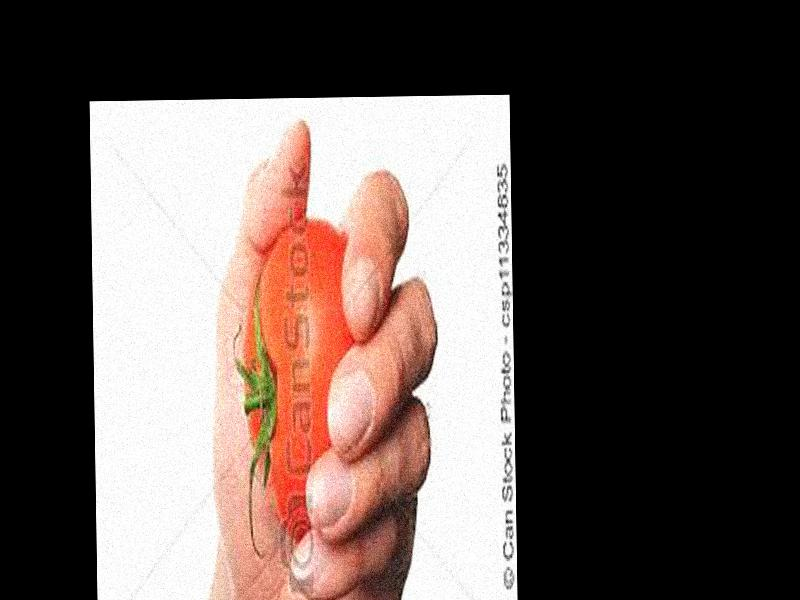Tomato: (243, 218, 354, 539)
